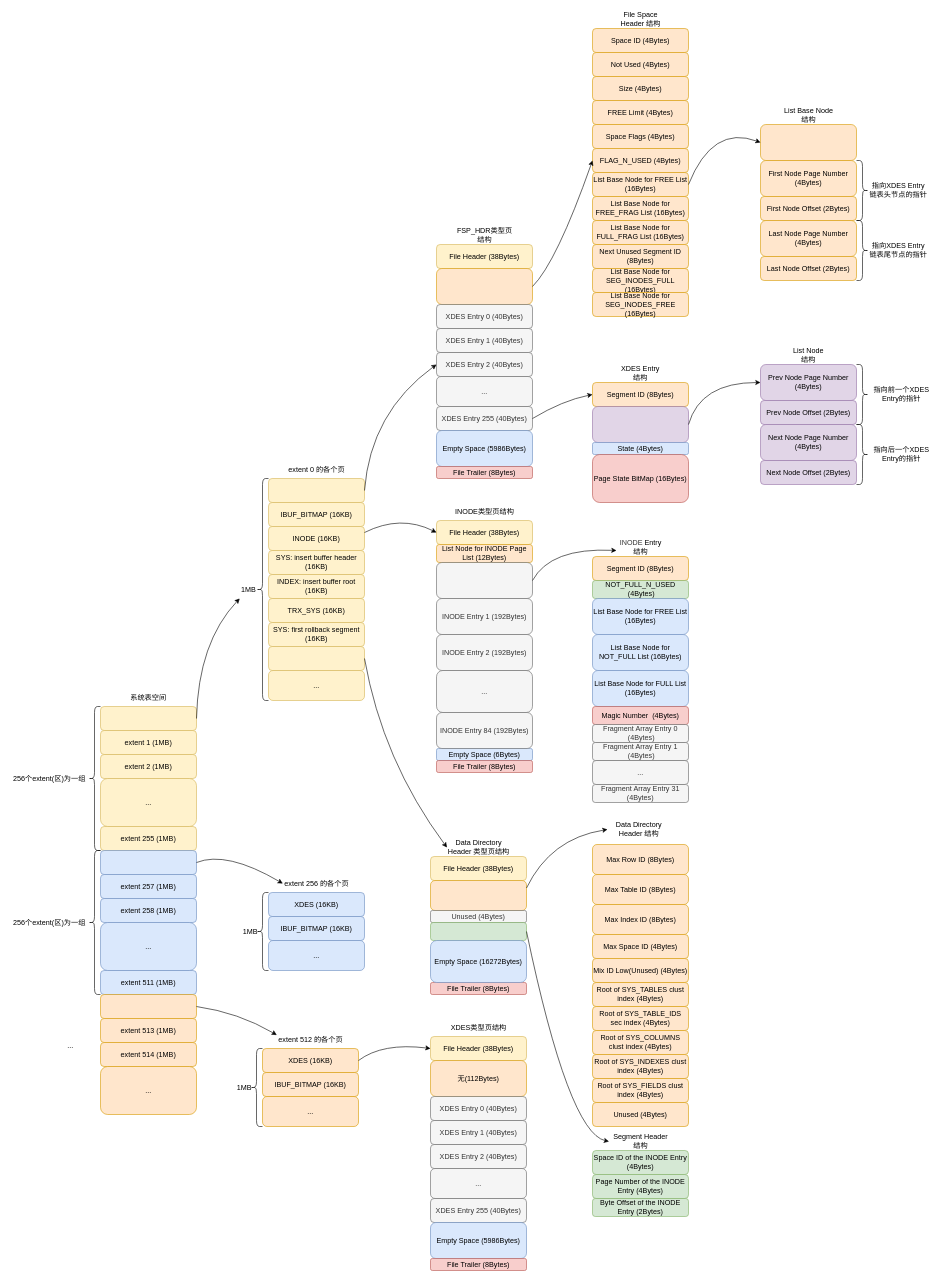
The diagram is 944 pixels wide and 1281 high, and some of its shapes have lost their labels. The shapes that lost their labels are listed below. From the top down, each one's centre as x and y in pixels, then its label:
At (x=808, y=142): "List Length (4Bytes)".
At (x=484, y=286): "File Space Header (112Bytes)".
At (x=640, y=424): "List Node (12Bytes)".
At (x=316, y=490): "FSP_HDR (16KB)".
At (x=484, y=580): "INODE Entry 0 (192Bytes)".
At (x=316, y=658): "SYS: data directory header (16KB)".
At (x=148, y=718): "extent 0 (1MB)".
At (x=148, y=862): "extent 256 (1MB)".
At (x=478, y=895): "Data Directory Header (52Bytes)".
At (x=478, y=931): "Segment Header (10Bytes)".
At (x=148, y=1006): "extent 512 (1MB)".
